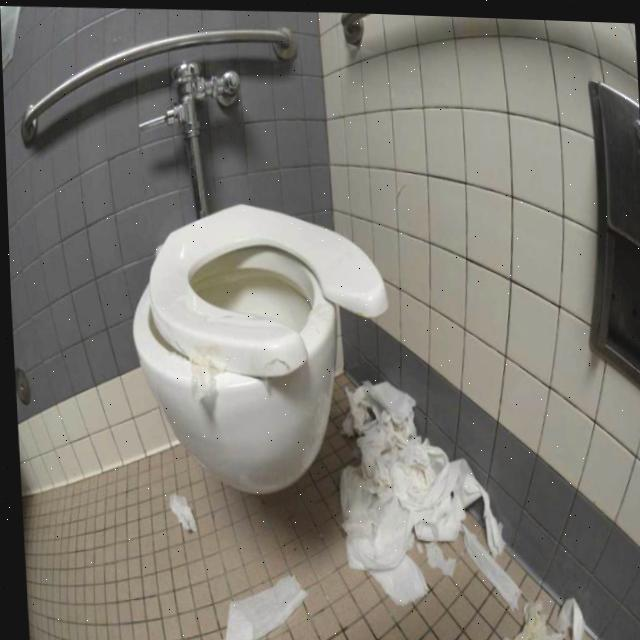garbage: (326, 360, 521, 618), (211, 552, 317, 640), (169, 319, 242, 420), (522, 585, 594, 640), (156, 481, 202, 551)
